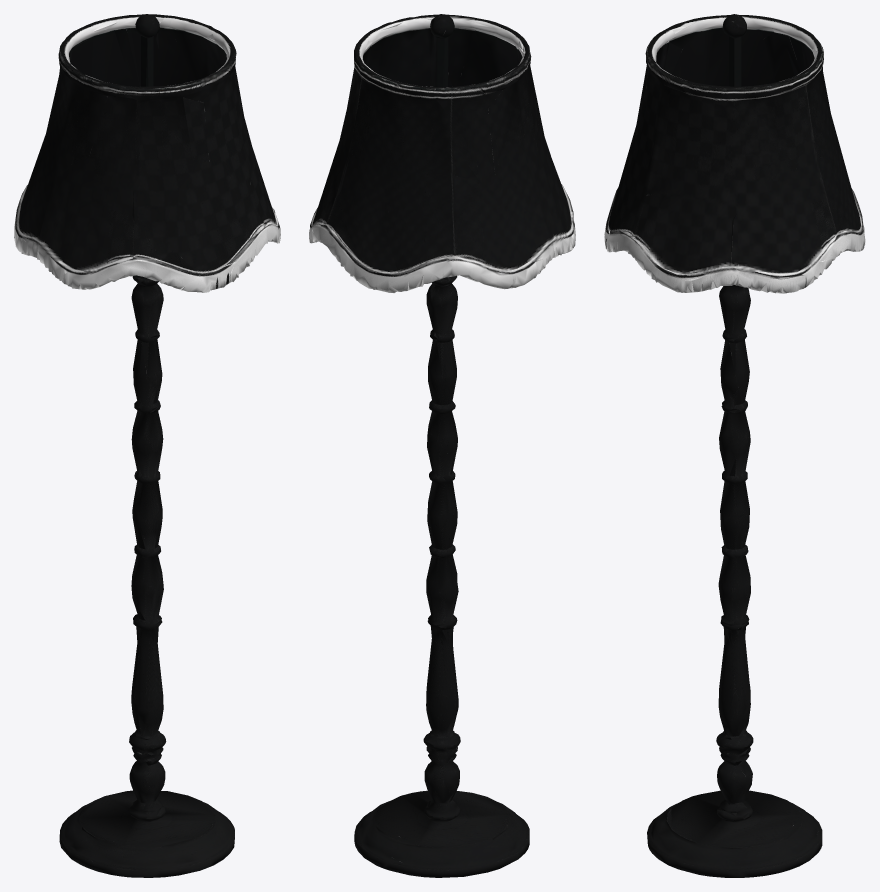
File: Luminaire.fbx
3 renders of one model, left to right at view 1: azimuth 30°, elevation 25°; view 2: azimuth 150°, elevation 25°; view 3: azimuth 270°, elevation 25°, orthographic.
Visible parts, largest first — view 1: Mesh_0; view 2: Mesh_0; view 3: Mesh_0.
Boxes of the visible parts, <box> form: Mesh_0: <box>14,14,280,877</box>; Mesh_0: <box>309,14,575,877</box>; Mesh_0: <box>604,14,865,877</box>.
Size of the model in its own units: 54.03 by 190 by 54.5.
Materials: 1 (1 with a texture image).
